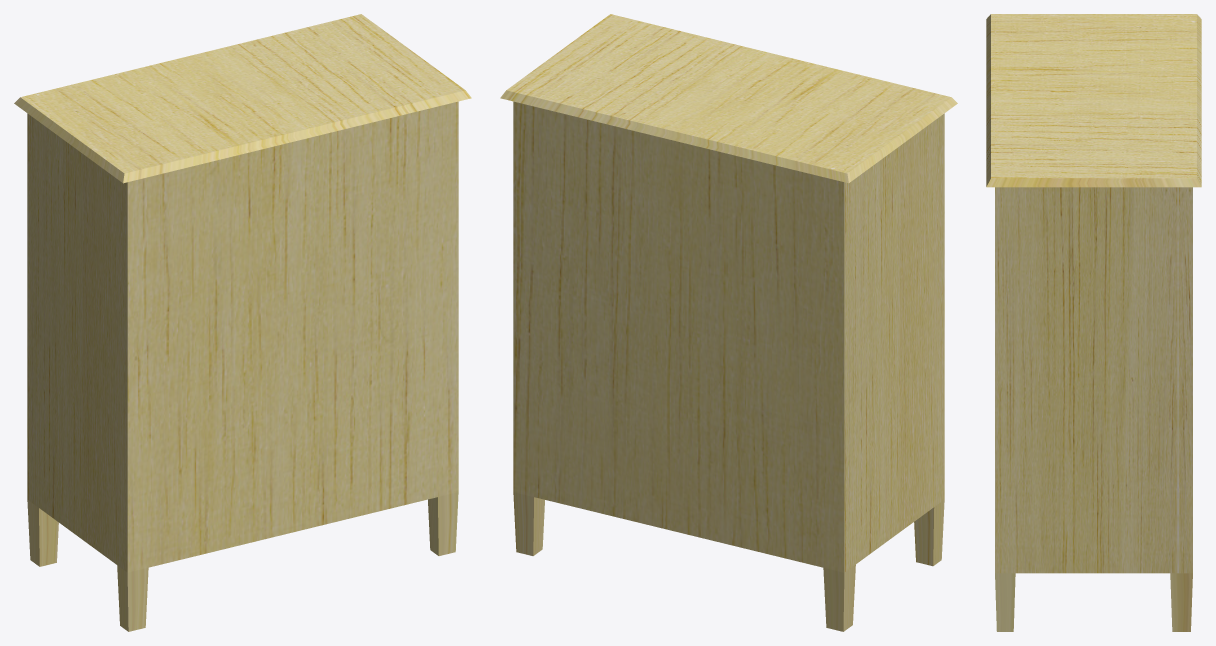
File: dresser_SC.fbx
The picture shows the model from 3 angles, left to right: view 1: azimuth 30°, elevation 25°; view 2: azimuth 150°, elevation 25°; view 3: azimuth 270°, elevation 25°; orthographic projection.
Parts seen in each view (by area): view 1: pCube1; view 2: pCube1; view 3: pCube1.
Boxes of the visible parts, bbox=[...] form: pCube1: bbox=[14, 14, 471, 631]; pCube1: bbox=[500, 14, 957, 631]; pCube1: bbox=[986, 14, 1201, 631].
Size of the model in its own units: 3.67 by 4.64 by 1.99.
1 material, 1 textured.
